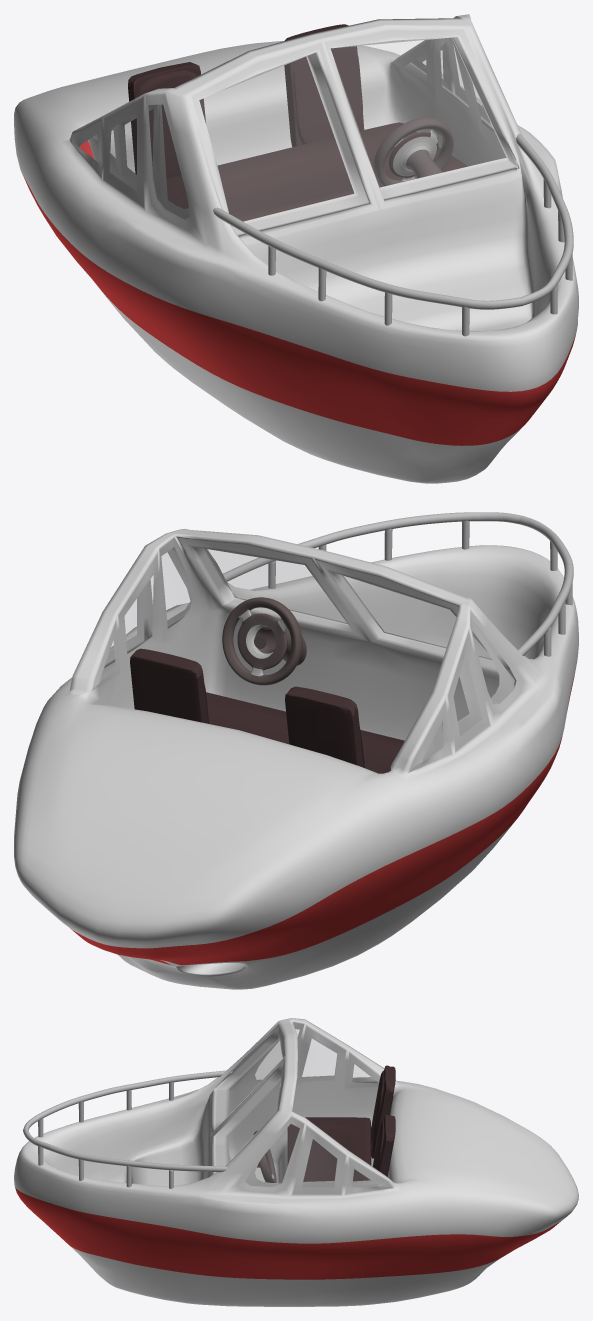
The model's file is speedboat.glb.
The picture shows the model from 3 angles, top to bottom: view 1: azimuth 30°, elevation 25°; view 2: azimuth 150°, elevation 25°; view 3: azimuth 270°, elevation 25°; orthographic projection. The views are drawn at different scales.
Parts seen in each view (by area): view 1: body; view 2: body; view 3: body.
Boxes of the visible parts, box(x1,y1,x2,y2) form: body: box(14, 14, 578, 483); body: box(14, 512, 578, 989); body: box(14, 1018, 578, 1306).
Bounding box in the file's own units: 3.13 × 2.47 × 5.6.
Materials: 8 (2 with a texture image).
